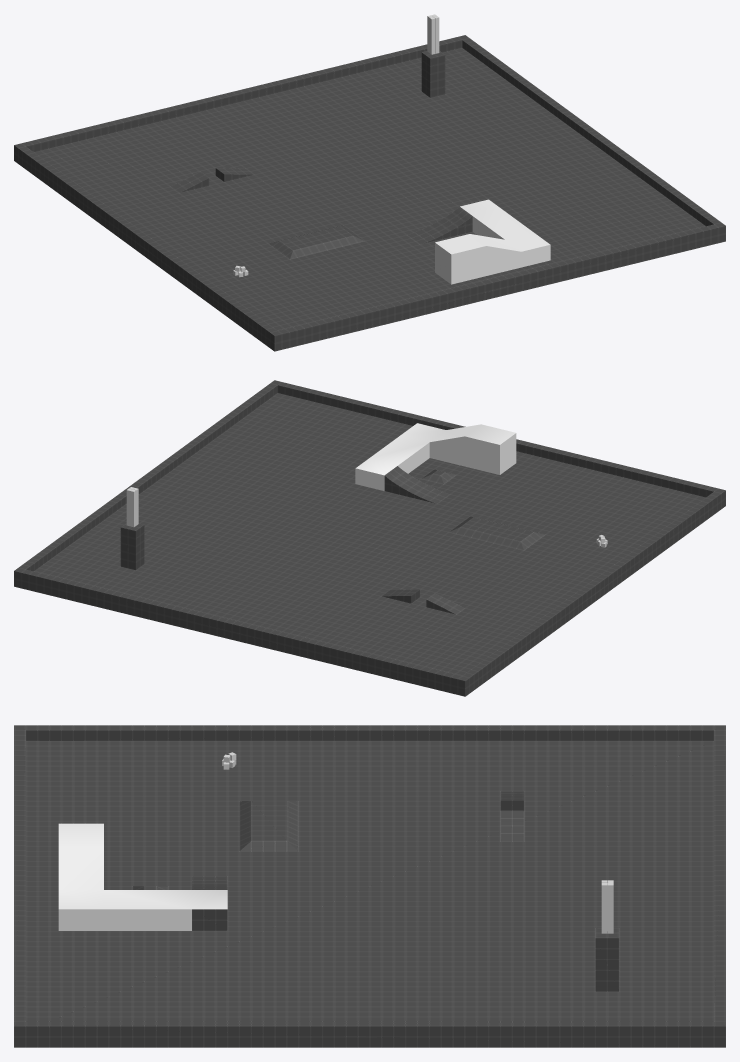
Rendered from terrain.glb.
3 views of the same model, one above another, from view 1: azimuth 30°, elevation 25°; view 2: azimuth 150°, elevation 25°; view 3: azimuth 270°, elevation 25° (orthographic). The views are drawn at different scales.
Visible parts, largest first — view 1: SM_ground; view 2: SM_ground; view 3: SM_ground.
Part boxes in pixels (left/top/right/bottom): SM_ground: left=14, top=35, right=725, bottom=351; SM_ground: left=14, top=380, right=725, bottom=696; SM_ground: left=14, top=725, right=725, bottom=1047.
Size of the model in its own units: 60 by 10.66 by 60.
Materials: 2 (1 with a texture image).
